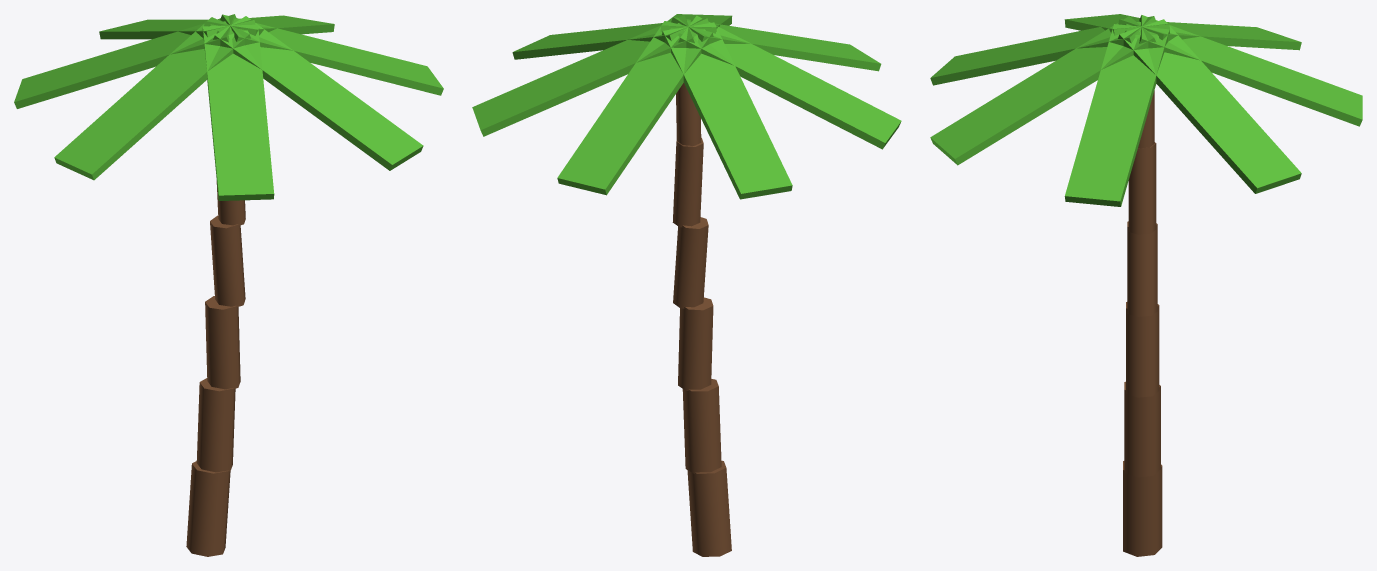
File: tree_palm.glb
The picture shows the model from 3 angles, left to right: view 1: azimuth 30°, elevation 25°; view 2: azimuth 150°, elevation 25°; view 3: azimuth 270°, elevation 25°; orthographic projection. The views are drawn at different scales.
Parts seen in each view (by area): view 1: tree_leaves, tree_trunk; view 2: tree_leaves, tree_trunk; view 3: tree_leaves, tree_trunk.
Part boxes in pixels (<box>): tree_leaves: <box>14,14,443,200</box>; tree_trunk: <box>186,181,245,556</box>; tree_leaves: <box>472,14,901,199</box>; tree_trunk: <box>672,83,731,556</box>; tree_leaves: <box>930,14,1362,206</box>; tree_trunk: <box>1123,90,1162,556</box>.
Bounding box in the file's own units: 4.28 × 5.68 × 4.17.
